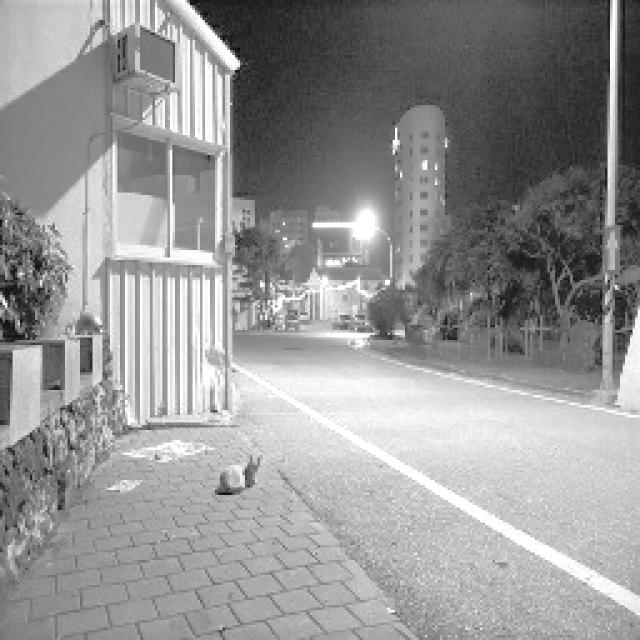cat: (211, 442, 268, 499)
